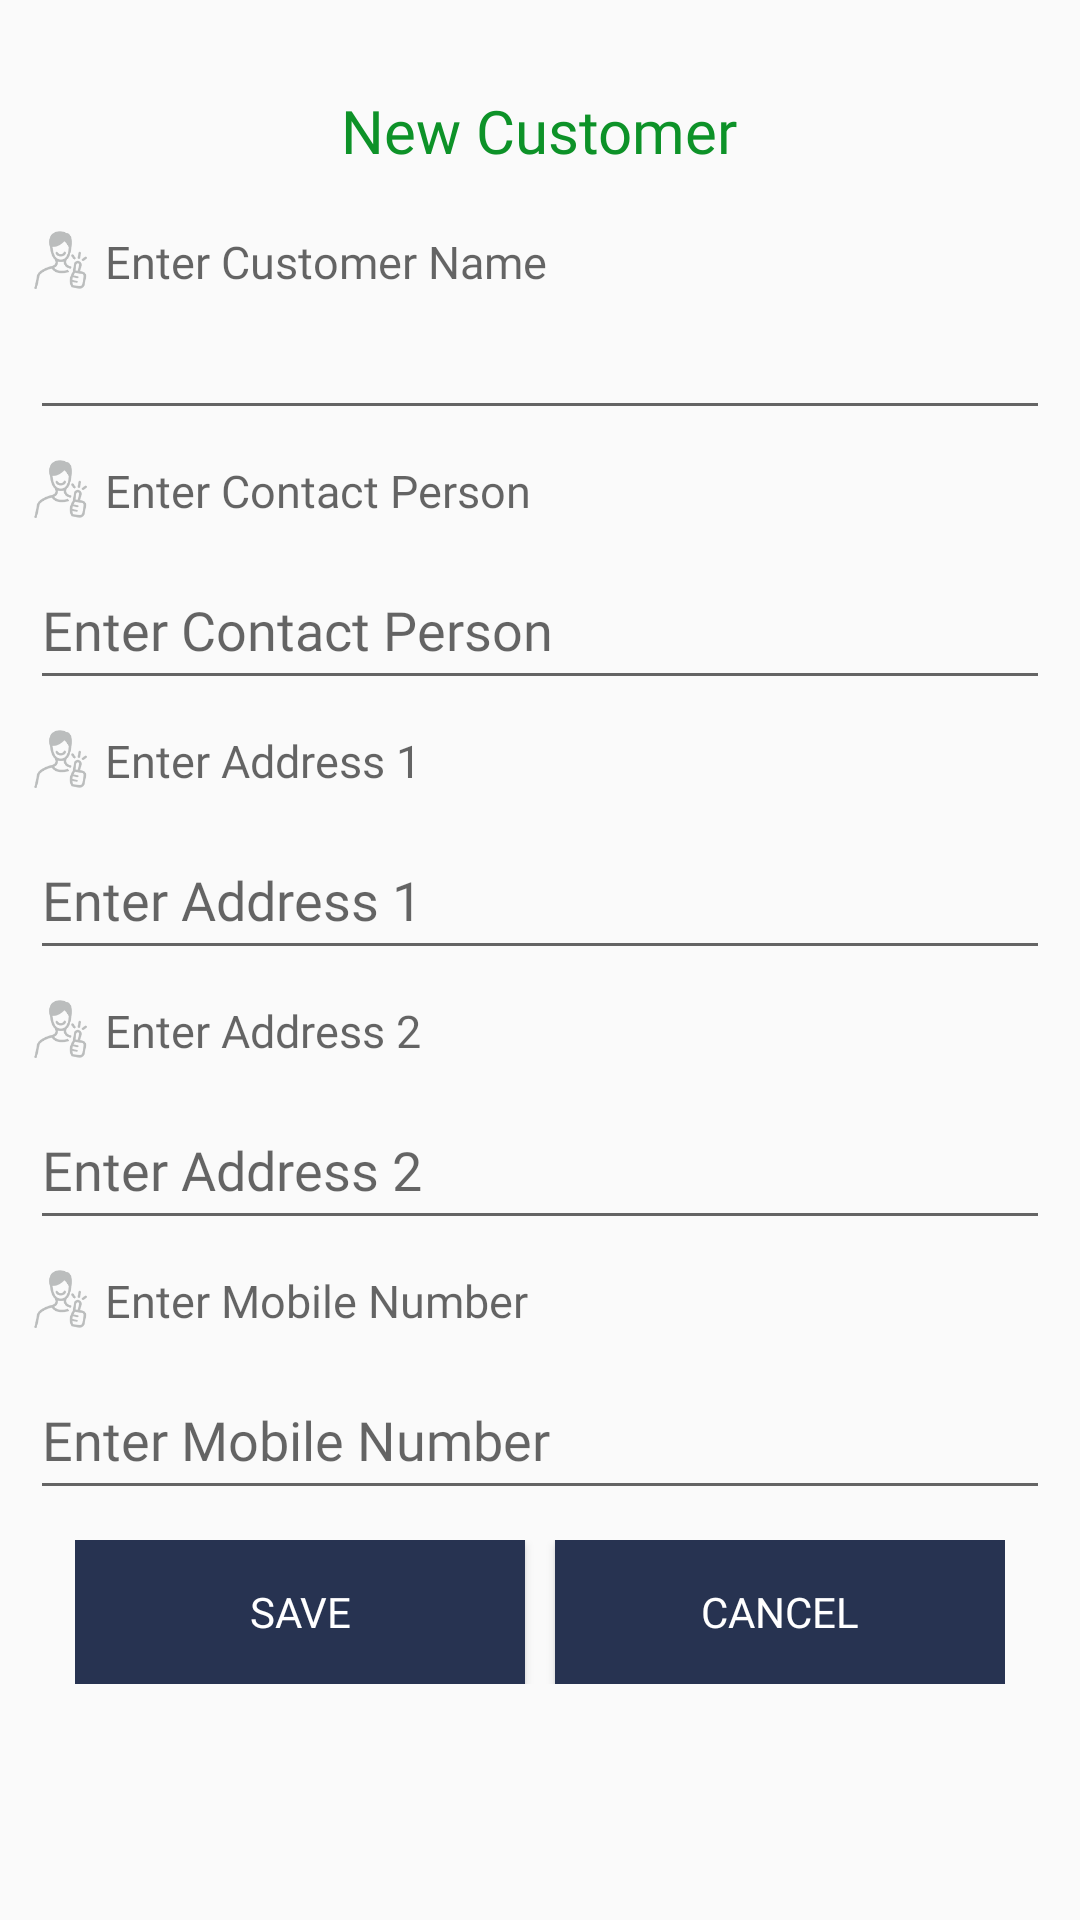

Named icons in this screenshot (1080 × 1920) and their centers, (x,y):
customericon: (60,260), (60,489), (60,759), (60,1029), (60,1299)
